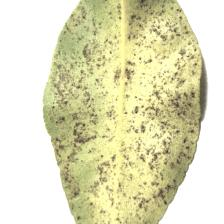canker: (68, 32, 175, 171)
